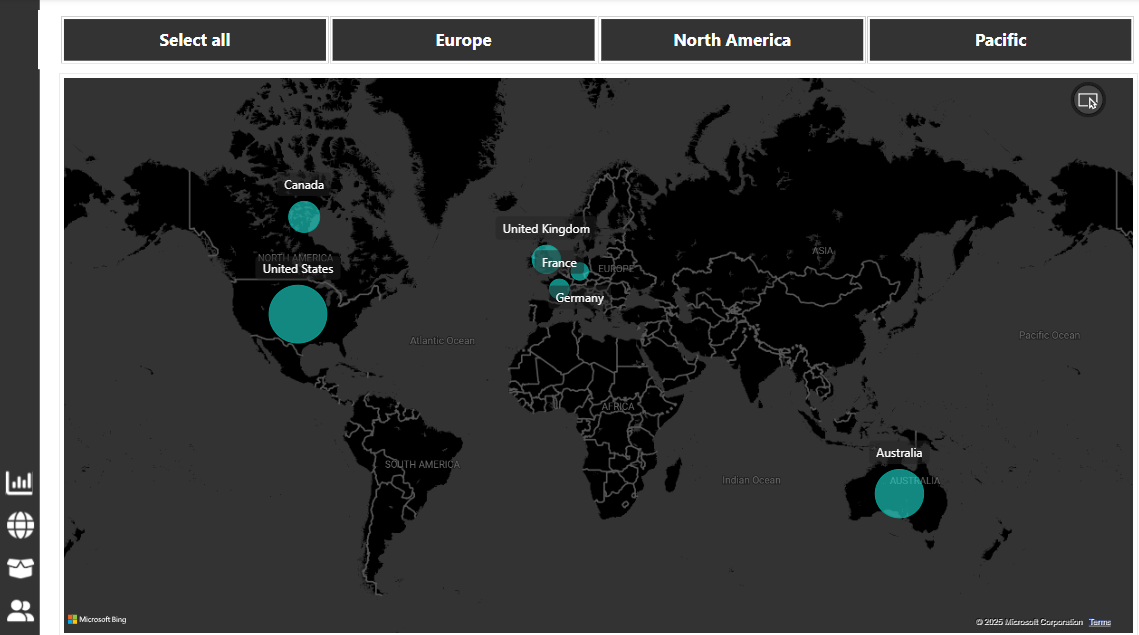

The dashboard page shown, as its layout file describes it:
{"tool":"powerbi","page":{"name":"Map","canvas":[1280,720],"ordinal":1},"visuals":[{"type":"shape","box":[0,0,45,720],"z":0},{"type":"actionButton","box":[2.5,516.7,45.6,37.8],"z":0,"group":"g1"},{"type":"actionButton","box":[3.3,563.4,45.6,37.8],"z":1000,"group":"g1"},{"type":"map","fields":{"Category":["Territory Lookup.Country"],"Size":["Measure Table.Total Orders"]},"box":[65.6,82.5,1191.3,622.8],"z":1000},{"type":"slicer","fields":{"Values":["Territory Lookup.Continent"]},"box":[43,13.6,1234.3,65.6],"z":2000},{"type":"actionButton","box":[3.3,611.1,45.6,37.8],"z":2000,"group":"g1"},{"type":"actionButton","box":[3.3,657.8,45.6,37.8],"z":3000,"group":"g1"},{"type":"group","id":"g1","title":"Navigation Buttons","box":[2.5,516.7,46.4,178.9],"z":3000}]}

Visuals, with their boxes on the page's 1280x720 design canvas (x1, y1, x2, y2). These are canvas units, not pixel positions in the 1139x635 screenshot, which may show the page scaled, cropped or inside an application window:
shape: x1=0 y1=0 x2=45 y2=720
actionButton: x1=2 y1=517 x2=48 y2=554
actionButton: x1=3 y1=563 x2=49 y2=601
map - Territory Lookup.Country x Measure Table.Total Orders: x1=66 y1=82 x2=1257 y2=705
slicer - Territory Lookup.Continent: x1=43 y1=14 x2=1277 y2=79
actionButton: x1=3 y1=611 x2=49 y2=649
actionButton: x1=3 y1=658 x2=49 y2=696
"Navigation Buttons" group: x1=2 y1=517 x2=49 y2=696
